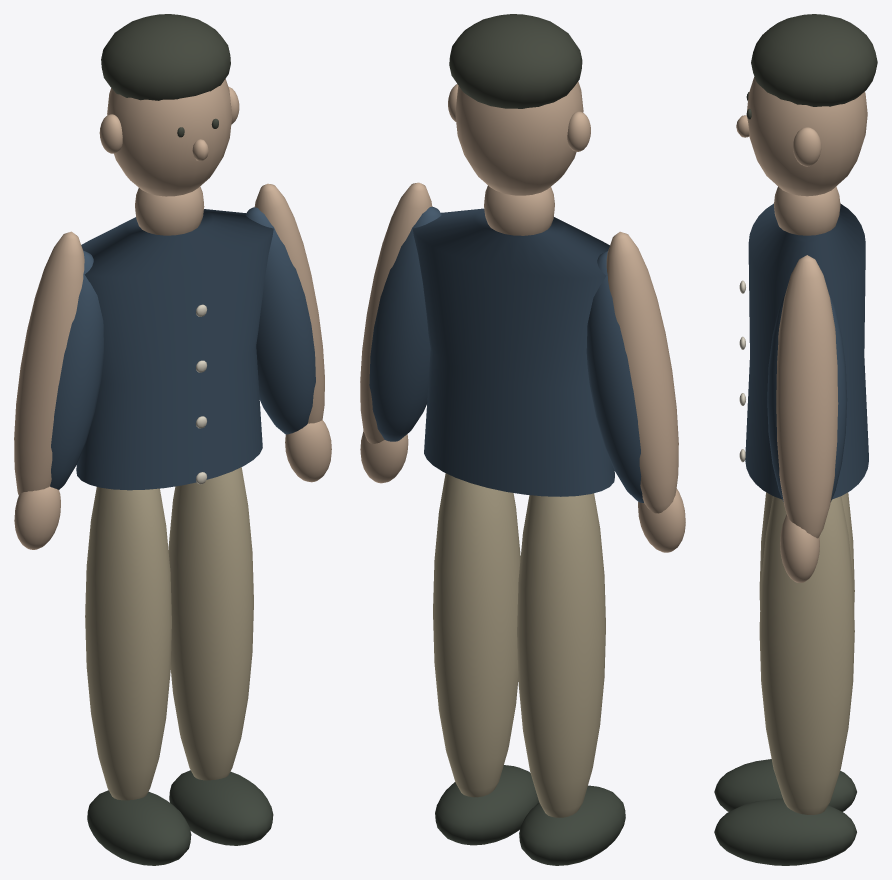
The model's file is look-3.glb.
The picture shows the model from 3 angles, left to right: view 1: azimuth 30°, elevation 25°; view 2: azimuth 150°, elevation 25°; view 3: azimuth 270°, elevation 25°; orthographic projection. The views are drawn at different scales.
Size of the model in its own units: 0.7643 by 1.89 by 0.343.
